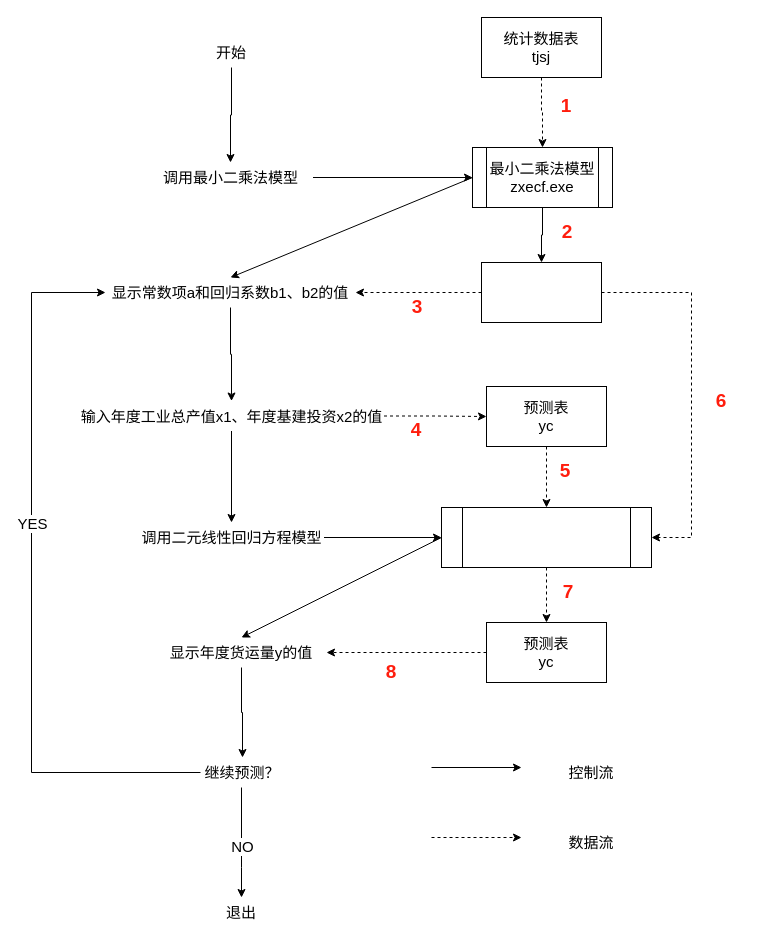
The diagram is 769 pixels wide and 945 high, and some of its shapes have lost their labels. Each missing label, with the centre of its shape:
"二元线性回归方程模型 eyxxhg.exe" belongs at [546,537].
"参数表 cs" belongs at [541,292].
